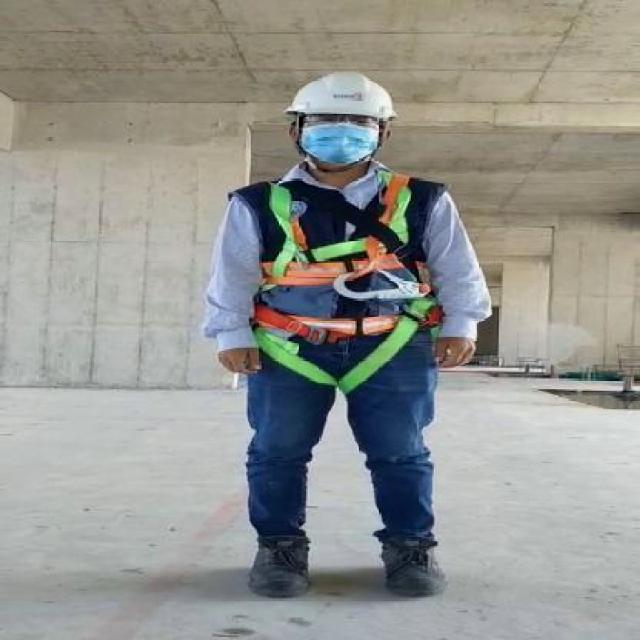face_mask: (300, 110, 382, 164)
glasses: (295, 107, 391, 128)
hand_noglove: (430, 333, 482, 373), (211, 341, 267, 374)
head_helmet: (280, 67, 406, 119)
person: (190, 62, 496, 606)
shoes: (374, 521, 455, 604), (243, 527, 323, 598)
vest: (226, 167, 452, 342)
